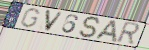6: (61, 14, 79, 34)
A: (93, 19, 118, 44)
G: (19, 8, 41, 29)
R: (115, 21, 142, 47)
S: (78, 16, 103, 39)
V: (43, 9, 64, 33)
